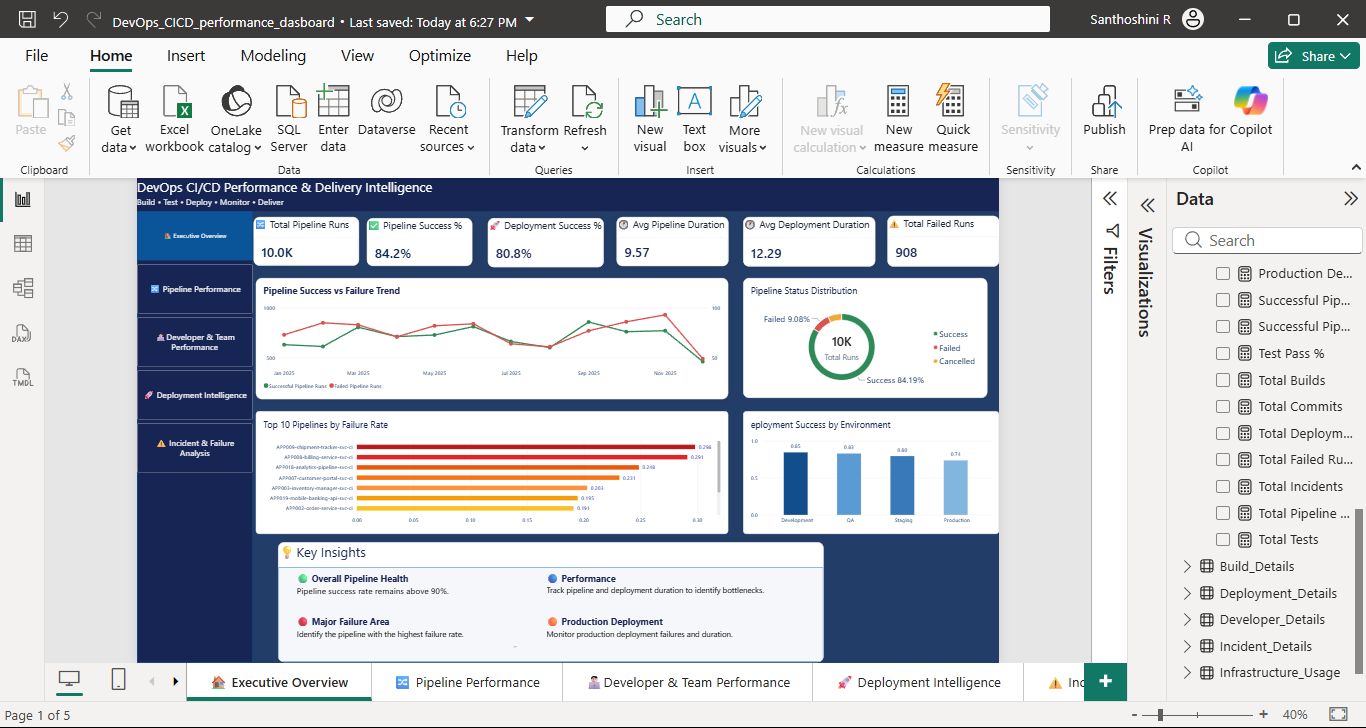

Layout of this report page (visuals, bound fields, positions):
{"tool":"powerbi","page":{"name":"🏠 Executive Overview","canvas":[1920,1080],"ordinal":0},"visuals":[{"type":"shape","box":[0,74.3,258.6,1004.7],"z":0},{"type":"shape","title":"💡Key Insights","box":[315.1,811.5,1215.7,267.5],"z":1000},{"type":"cardVisual","title":"🔀 Total Pipeline Runs","fields":{"Data":["Application_Details.Total Pipelines"]},"box":[258.6,86.2,234.8,108.8],"z":2000},{"type":"shape","title":"DevOps CI/CD Performance & Delivery Intelligence","box":[0,0,1920.2,74.3],"z":3000},{"type":"lineChart","title":"Pipeline Success vs Failure Trend","fields":{"Category":["Pipeline_Runs.Run_Date.Variation.Date Hierarchy.Year","Pipeline_Runs.Run_Date.Variation.Date Hierarchy.Month"],"Y":["Application_Details.Successful Pipeline Runs"],"Y2":["Application_Details.Failed Pipeline Runs"]},"box":[264.5,222.9,1052.2,270.5],"z":4000},{"type":"donutChart","title":"Pipeline Status Distribution","fields":{"Category":["Pipeline_Runs.Pipeline_Status"],"Y":["CountNonNull(Pipeline_Runs.Pipeline_ID)"]},"box":[1349.5,222.9,544,267.5],"z":5000},{"type":"barChart","title":"Top 10 Pipelines by Failure Rate","fields":{"Category":["Pipeline_Runs.Pipeline_Name"],"Y":["Application_Details.Pipeline Failure Rate %"]},"box":[264.5,520.2,1052.2,273.5],"z":6000},{"type":"clusteredColumnChart","title":"eployment Success by Environment","fields":{"Category":["Deployment_Details.Environment"],"Y":["Application_Details.Deployment Success %"]},"box":[1349.5,520.2,570.7,273.5],"z":7000},{"type":"cardVisual","title":"✅ Pipeline Success %","fields":{"Data":["Application_Details.Pipeline Success %"]},"box":[511.3,89.2,234.8,107],"z":8000},{"type":"cardVisual","title":"🚀 Deployment Success %","fields":{"Data":["Application_Details.Deployment Success %"]},"box":[781.7,89.2,258.6,110],"z":9000},{"type":"cardVisual","title":"🕐 Avg Pipeline Duration","fields":{"Data":["Application_Details.Avg Pipeline Duration"]},"box":[1067.1,86.2,249.7,110],"z":10000},{"type":"cardVisual","title":"🕐 Avg Deployment Duration","fields":{"Data":["Application_Details.Avg Deployment Duration"]},"box":[1349.5,86.2,294.2,111.2],"z":11000},{"type":"cardVisual","title":"⚠️ Total Failed Runs","fields":{"Data":["Application_Details.Total Failed Runs"]},"box":[1670.5,83.2,249.7,113.7],"z":12000},{"type":"textbox","title":"🟢 Overall Pipeline Health","box":[356.7,876.9,490.4,68.4],"z":13000},{"type":"textbox","title":"🔴 Major Failure Area","box":[356.7,975,490.4,71.3],"z":14000},{"type":"textbox","title":"🟠 Production Deployment","box":[912.5,975,538.9,61.8],"z":15000},{"type":"textbox","title":"🔵 Performance","box":[912.5,876.9,558.8,62.4],"z":16000},{"type":"pageNavigator","box":[0,74.3,258.6,582.6],"z":17000}]}

Visuals, with their boxes on the page's 1920x1080 design canvas (x1, y1, x2, y2). These are canvas units, not pixel positions in the 1366x728 screenshot, which may show the page scaled, cropped or inside an application window:
shape: [0,74,259,1079]
"💡Key Insights" shape: [315,812,1531,1079]
"🔀 Total Pipeline Runs" cardVisual: [259,86,493,195]
"DevOps CI/CD Performance & Delivery Intelligence" shape: [0,0,1920,74]
"Pipeline Success vs Failure Trend" lineChart: [264,223,1317,493]
"Pipeline Status Distribution" donutChart: [1350,223,1894,490]
"Top 10 Pipelines by Failure Rate" barChart: [264,520,1317,794]
"eployment Success by Environment" clusteredColumnChart: [1350,520,1920,794]
"✅ Pipeline Success %" cardVisual: [511,89,746,196]
"🚀 Deployment Success %" cardVisual: [782,89,1040,199]
"🕐 Avg Pipeline Duration" cardVisual: [1067,86,1317,196]
"🕐 Avg Deployment Duration" cardVisual: [1350,86,1644,197]
"⚠️ Total Failed Runs" cardVisual: [1670,83,1920,197]
"🟢 Overall Pipeline Health" textbox: [357,877,847,945]
"🔴 Major Failure Area" textbox: [357,975,847,1046]
"🟠 Production Deployment" textbox: [912,975,1451,1037]
"🔵 Performance" textbox: [912,877,1471,939]
pageNavigator: [0,74,259,657]
